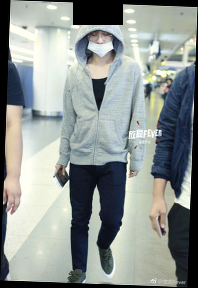mask_weared_incorrect: (86, 31, 115, 58)
